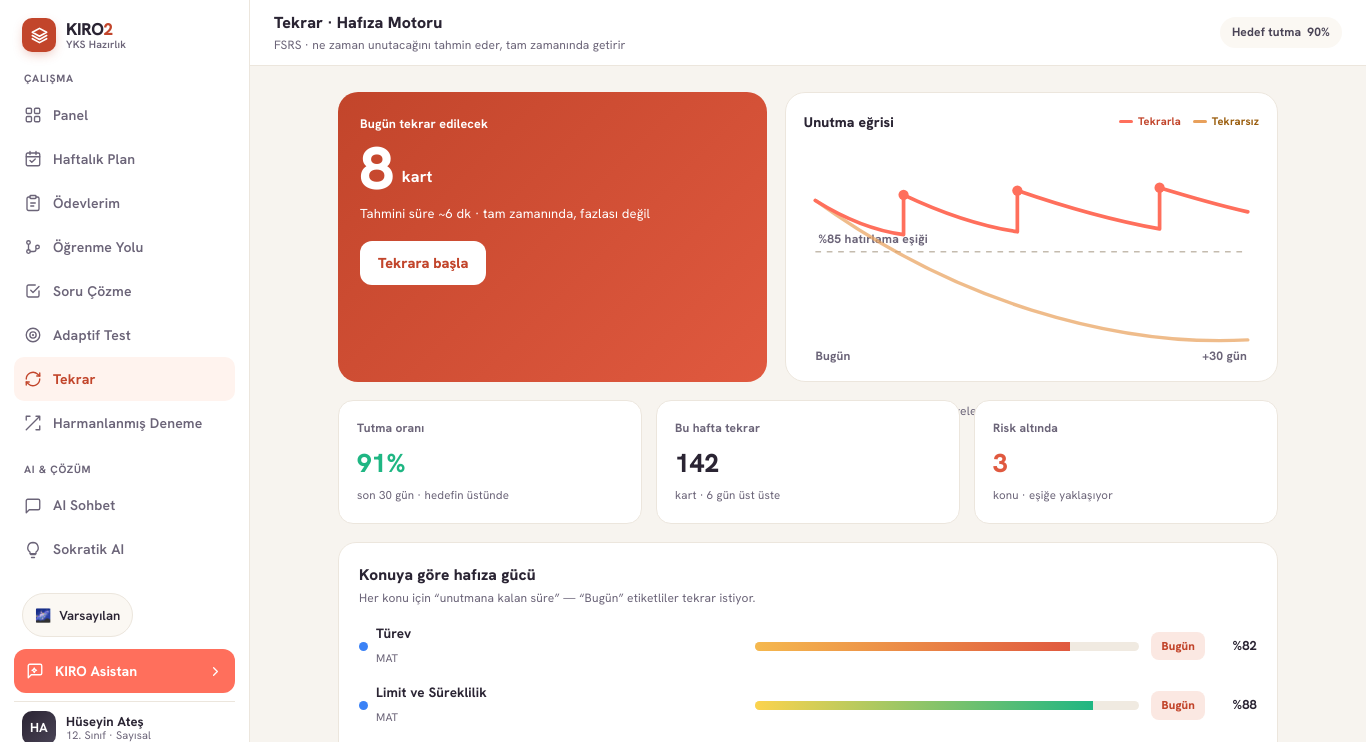
Test: FSRSPage › kısmi ilerleme sonrası CTA "Tekrara devam et" olur
The width and height of the screenshot is (1366, 742).
expect the text "Bugün tekrar edilecek" is shown: met, box [360, 115, 488, 132]
Click the button "Tekrara başla" at (423, 263), box [360, 241, 486, 285]
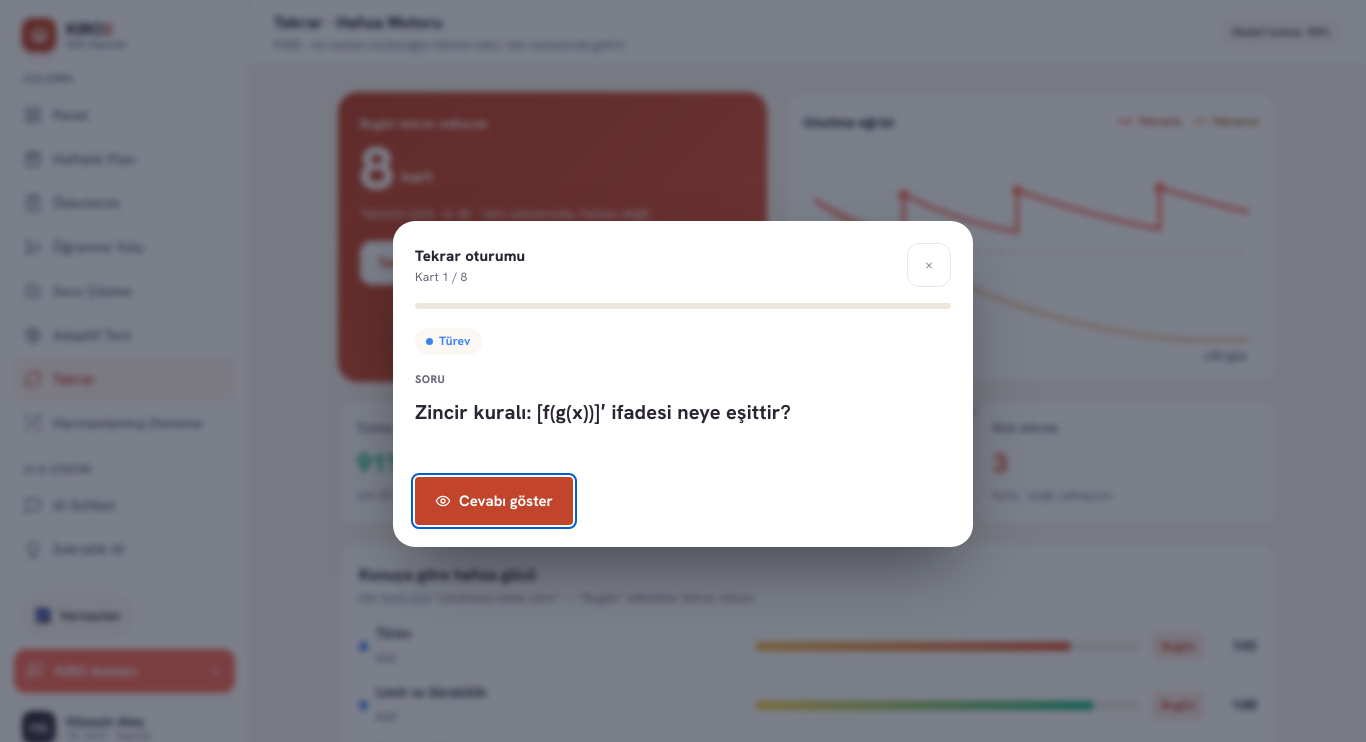
Press Space in the dialog, box [393, 221, 973, 547]
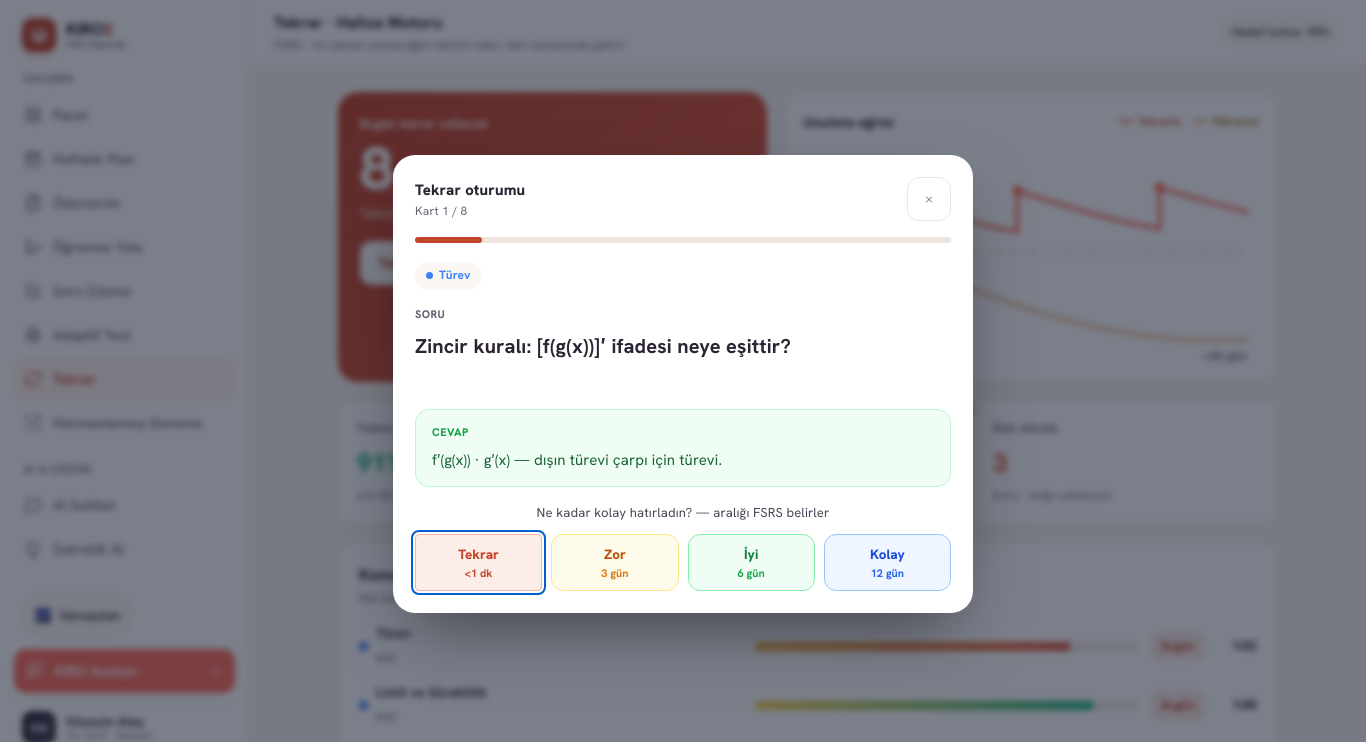
expect the text "CEVAP" is shown: met, box [432, 425, 469, 439]
Press 2 in the dialog, box [393, 156, 973, 613]
Press Escape in the dialog, box [393, 156, 973, 613]
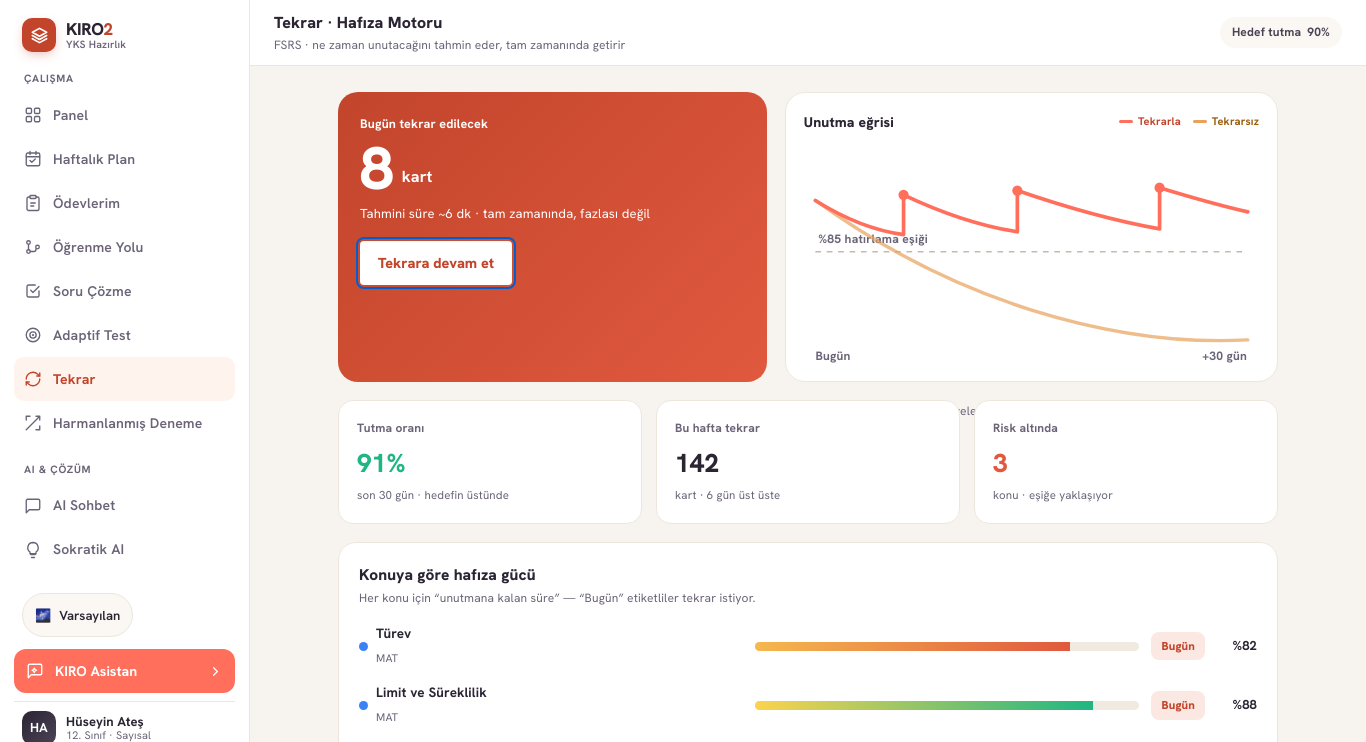
expect the dialog is gone: met
expect the button "Tekrara devam et" is shown: met, box [360, 241, 512, 285]
